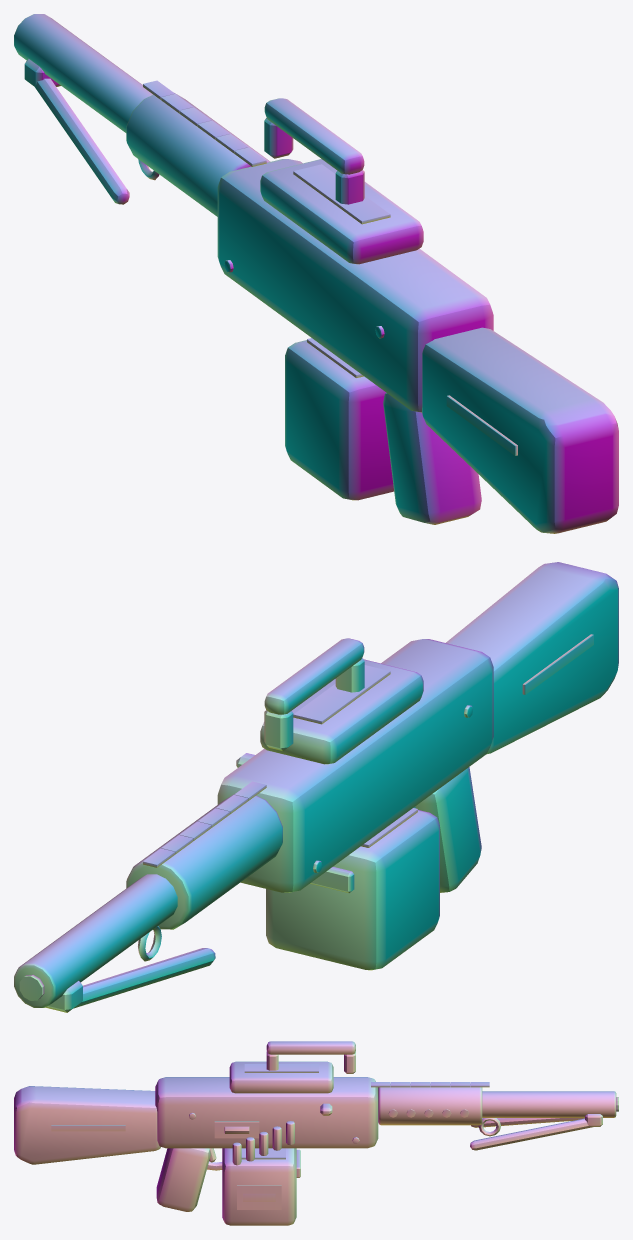
Rendered from wpn_lmg.glb.
3 renders of one model, top to bottom at view 1: azimuth 30°, elevation 25°; view 2: azimuth 150°, elevation 25°; view 3: azimuth 270°, elevation 25°, orthographic. The views are drawn at different scales.
Visible parts, largest first — view 1: wpn_lmg_mesh; view 2: wpn_lmg_mesh; view 3: wpn_lmg_mesh.
Part boxes in pixels (<box>): wpn_lmg_mesh: <box>14,14,618,533</box>; wpn_lmg_mesh: <box>14,562,618,1012</box>; wpn_lmg_mesh: <box>14,1041,618,1225</box>.
Size of the model in its own units: 0.0519 by 0.125 by 0.4068.
